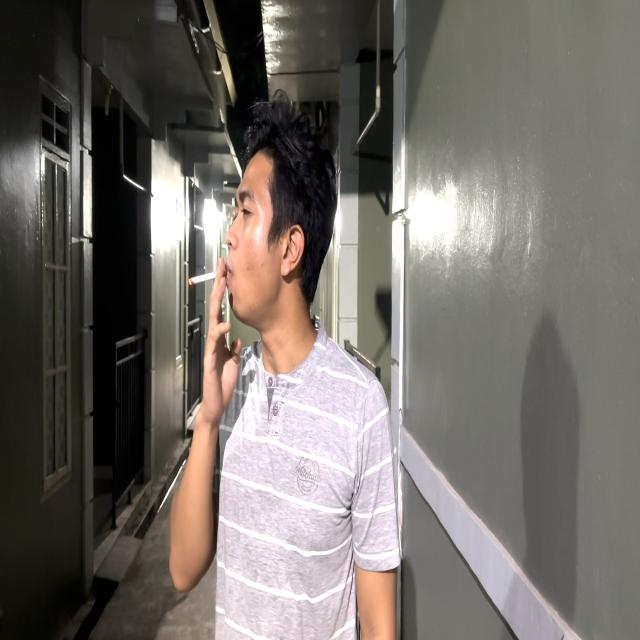cigarette: (188, 269, 227, 286)
smoking: (167, 91, 339, 599)
